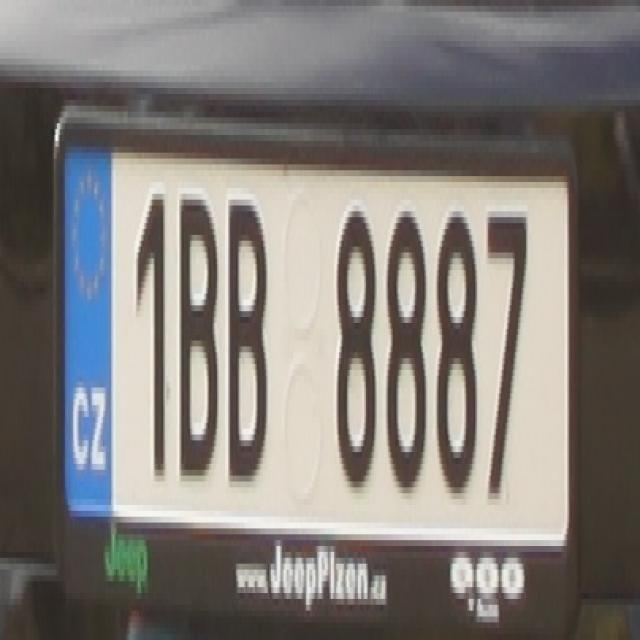1: (135, 188, 166, 481)
7: (486, 205, 526, 505)
8: (434, 205, 475, 476), (336, 199, 375, 482), (386, 205, 424, 476)
B: (225, 188, 268, 481), (179, 188, 217, 475)
